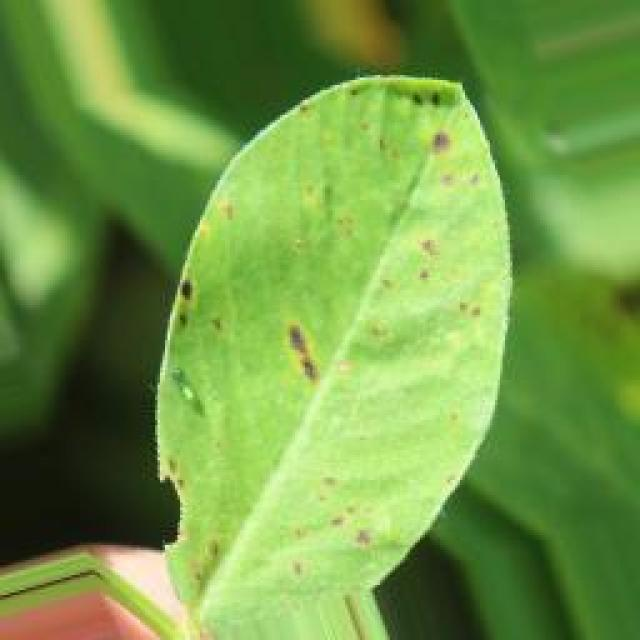Sigatoka: (270, 153, 380, 274), (296, 468, 394, 547), (400, 135, 498, 213), (158, 257, 232, 349), (417, 261, 502, 338), (281, 299, 339, 405), (211, 200, 279, 279), (386, 215, 440, 292)
